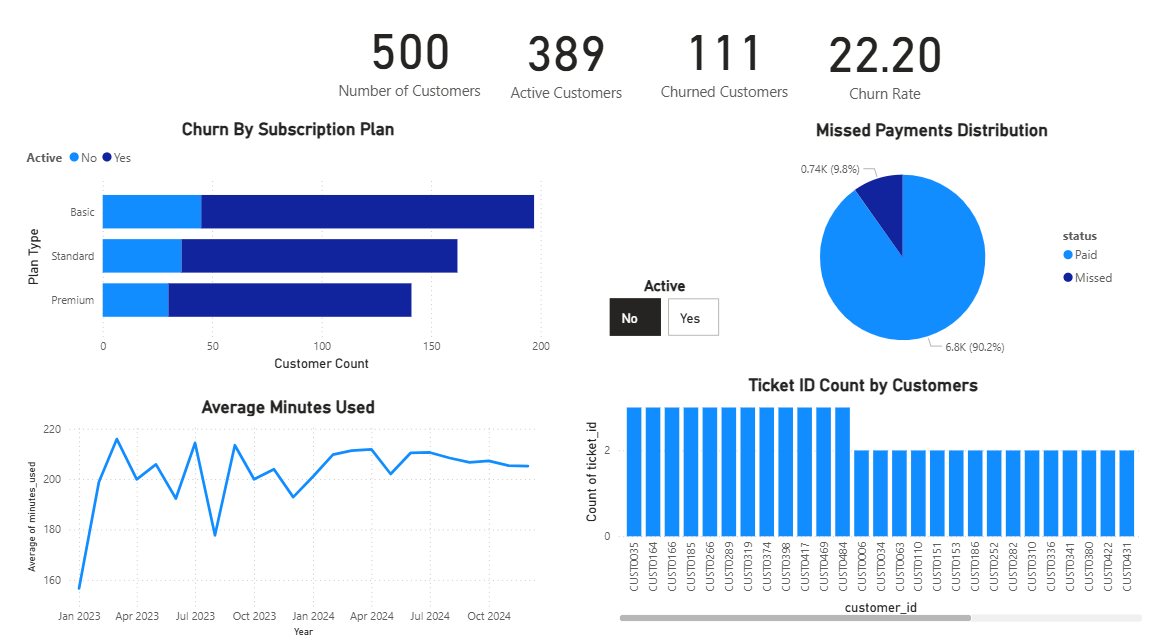

The page's visual inventory and layout, read from the dashboard file:
{"tool":"powerbi","page":{"name":"Page 1","canvas":[1280,720],"ordinal":0},"visuals":[{"type":"barChart","title":"Churn By Subscription Plan","fields":{"Category":["customers.plan_type"],"Y":["CountNonNull(customers.customer_id)"],"Series":["customers.is_active"]},"box":[27.4,137.2,584.6,281.3],"z":0},{"type":"lineChart","title":"Average Minutes Used","fields":{"Y":["Avg(usage_logs.minutes_used)"],"Category":["usage_logs.date.Variation.Date Hierarchy.Year","usage_logs.date.Variation.Date Hierarchy.Month"]},"box":[27.4,441.9,584.6,269],"z":1000},{"type":"pieChart","title":"Missed Payments Distribution","fields":{"Y":["CountNonNull(payments.customer_id)"],"Category":["payments.status"]},"box":[813.7,138.6,425.4,279.9],"z":2000},{"type":"columnChart","title":"Ticket ID Count by Customers","fields":{"Category":["support_tickets.customer_id"],"Y":["CountNonNull(support_tickets.ticket_id)"]},"box":[639.5,418.5,623,275.8],"z":3000},{"type":"advancedSlicerVisual","title":"Active","fields":{"Values":["customers.is_active"]},"box":[665.5,310.1,133.1,75.5],"z":4000},{"type":"card","fields":{"Values":["CountNonNull(customers.customer_id)"]},"box":[366.4,20.6,172.9,113.9],"z":5000},{"type":"card","fields":{"Values":["Count(customers.customer_id)"]},"box":[539.3,22,171.5,113.9],"z":6000},{"type":"card","fields":{"Values":["Count(customers.customer_id)"]},"box":[710.8,19.2,175.6,118],"z":6001},{"type":"card","fields":{"Values":["customers.Churn Rate"]},"box":[886.5,26.1,177,109.8],"z":6002}]}

Visuals, with their boxes in screenshot pixels (x1, y1, x2, y2), scaled from the page's 1280x720 canvas onto the 1158x642 screenshot:
"Churn By Subscription Plan" barChart: [left=25, top=122, right=554, bottom=373]
"Average Minutes Used" lineChart: [left=25, top=394, right=554, bottom=634]
"Missed Payments Distribution" pieChart: [left=736, top=124, right=1121, bottom=373]
"Ticket ID Count by Customers" columnChart: [left=579, top=373, right=1142, bottom=619]
"Active" advancedSlicerVisual: [left=602, top=277, right=722, bottom=344]
card - CountNonNull(customers.customer_id): [left=331, top=18, right=488, bottom=120]
card - Count(customers.customer_id): [left=488, top=20, right=643, bottom=121]
card - Count(customers.customer_id): [left=643, top=17, right=802, bottom=122]
card - customers.Churn Rate: [left=802, top=23, right=962, bottom=121]
